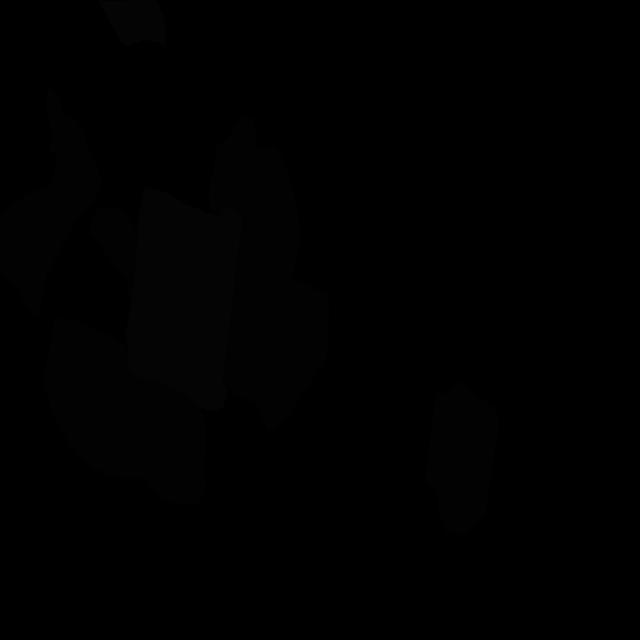cardboard: (42, 318, 207, 505), (0, 86, 102, 318), (223, 254, 329, 433), (208, 116, 302, 278), (425, 380, 499, 535), (88, 206, 138, 300)
soft_plastic: (126, 186, 242, 412), (98, 0, 166, 47)
